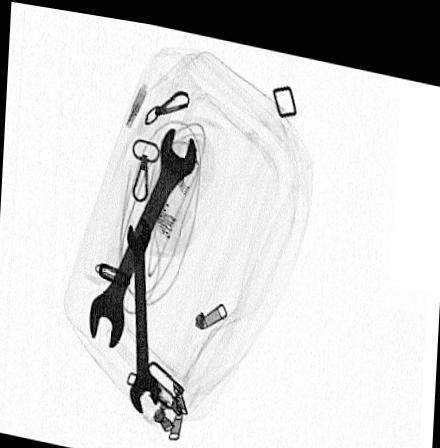Wrench: (86, 123, 196, 346), (125, 207, 158, 412)
